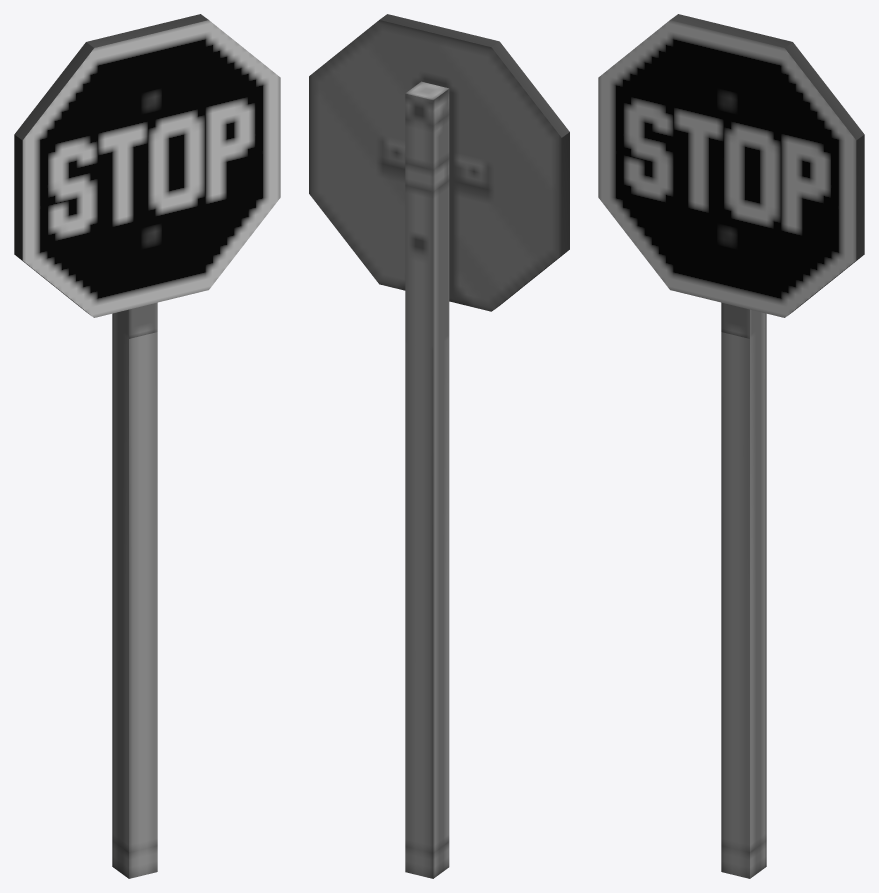
The model's file is Sign_Stop.fbx.
3 renders of one model, left to right at view 1: azimuth 30°, elevation 25°; view 2: azimuth 150°, elevation 25°; view 3: azimuth 330°, elevation 25°, orthographic. The views are drawn at different scales.
Visible parts, largest first — view 1: Sign_Stop; view 2: Sign_Stop; view 3: Sign_Stop.
Part boxes in pixels (box(x1,y1,x2,y2)): Sign_Stop: box(14, 14, 280, 878); Sign_Stop: box(309, 14, 569, 878); Sign_Stop: box(598, 14, 864, 878).
Size of the model in its own units: 9 by 28.25 by 1.5.
